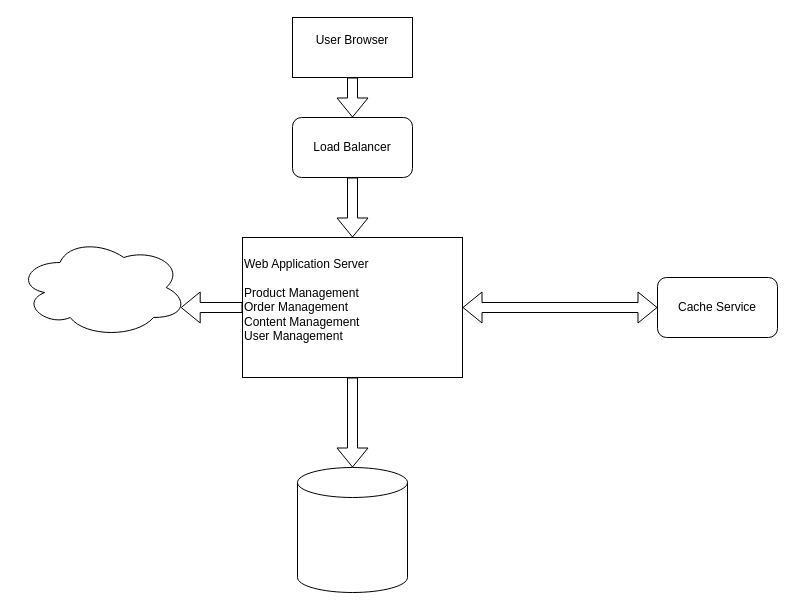
The diagram is 795 pixels wide and 610 high, and some of its shapes have lost their labels. The shapes that lost their labels are listed below. From the top down, each one's centre as x and y in pixels, then its label:
At (102,287): "Media Storage / CDN (Images & Videos)".
At (352,529): "Database Server".
